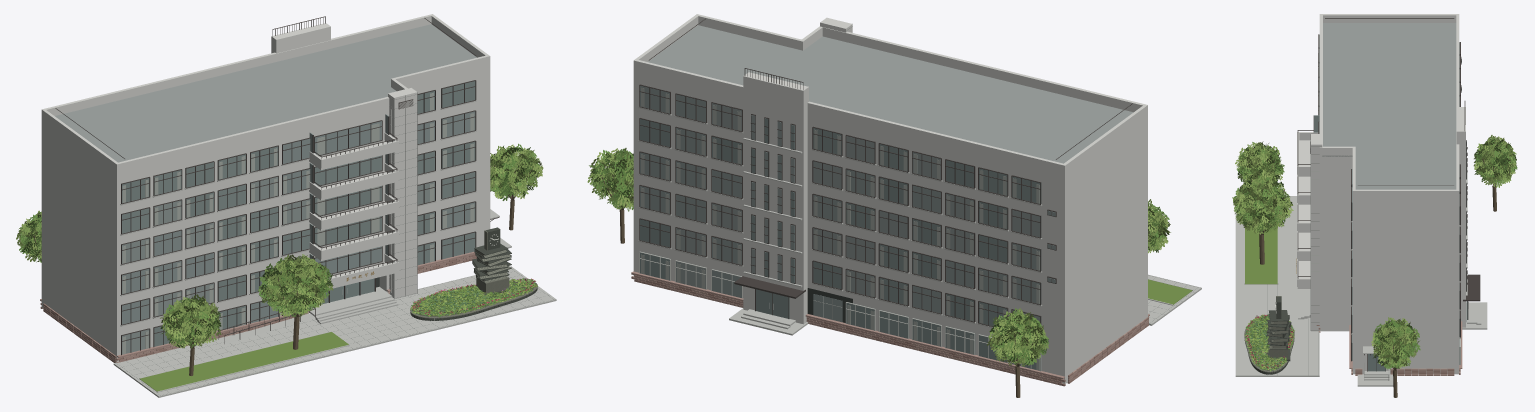
The model's file is 17-candidate.glb.
3 views of the same model, side by side, from view 1: azimuth 30°, elevation 25°; view 2: azimuth 150°, elevation 25°; view 3: azimuth 270°, elevation 25° (orthographic). The views are drawn at different scales.
Parts seen in each view (by area): view 1: T4 six storey structure, T4 flat roof, T4 forecourt paving, T4 window glass.001, T4 roof parapet, T4 window glass.002, T4 window glass.003, T4 window transoms, T4 setback east wing, T4 window mullions, T4 front shaft, T4 curtain panels (+41 smaller); view 2: T4 six storey structure, T4 flat roof, T4 rear stair tower, T4 window glass.002, T4 window glass.001, T4 roof parapet, T4 setback east wing, T4 window glass, T4 window transoms, T4 window mullions, T4 curtain panels, T4 setback east flat roof (+30 smaller); view 3: T4 flat roof, T4 setback east wing, T4 forecourt paving, T4 six storey structure, T4 setback east flat roof, T4 end parapet, T4 front shaft, T4 west forecourt lawn, T4 Canopy T4 front broadleaf.001, T4 setback east ground structure, T4 balcony slab, T4 Canopy T4 front broadleaf (+28 smaller).
Boxes of the visible parts, x1,y1,x2,y2 form: T4 six storey structure: [41, 107, 389, 331]; T4 flat roof: [55, 46, 396, 162]; T4 forecourt paving: [113, 266, 556, 397]; T4 window glass.001: [121, 81, 475, 346]; T4 roof parapet: [45, 14, 431, 173]; T4 window glass.002: [122, 111, 475, 324]; T4 window glass.003: [122, 151, 475, 265]; T4 window transoms: [121, 80, 475, 341]; T4 setback east wing: [405, 66, 490, 241]; T4 window mullions: [121, 80, 476, 355]; T4 front shaft: [388, 88, 417, 298]; T4 curtain panels: [122, 92, 474, 354]; T4 six storey structure: [738, 97, 1147, 350]; T4 flat roof: [765, 36, 1133, 163]; T4 rear stair tower: [743, 72, 808, 324]; T4 window glass.002: [640, 85, 1041, 313]; T4 window glass.001: [640, 119, 1007, 362]; T4 roof parapet: [636, 27, 1144, 175]; T4 setback east wing: [633, 71, 738, 270]; T4 window glass: [676, 103, 1041, 324]; T4 window transoms: [639, 84, 1040, 326]; T4 window mullions: [639, 85, 1041, 325]; T4 curtain panels: [641, 87, 1039, 370]; T4 setback east flat roof: [648, 25, 799, 85]; T4 flat roof: [1322, 23, 1456, 156]; T4 setback east wing: [1352, 199, 1459, 345]; T4 forecourt paving: [1235, 196, 1319, 376]; T4 six storey structure: [1319, 156, 1352, 302]; T4 setback east flat roof: [1355, 155, 1456, 189]; T4 end parapet: [1319, 14, 1459, 199]; T4 front shaft: [1311, 134, 1322, 331]; T4 west forecourt lawn: [1245, 219, 1277, 284]; T4 Canopy T4 front broadleaf.001: [1232, 175, 1293, 234]; T4 setback east ground structure: [1352, 346, 1459, 374]; T4 balcony slab: [1297, 140, 1310, 288]; T4 Canopy T4 front broadleaf: [1233, 176, 1293, 233].
Size of the model in its own units: 49.15 by 22.14 by 28.3.
33 materials, 6 textured.
